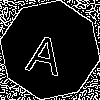A: (25, 25, 68, 76)
